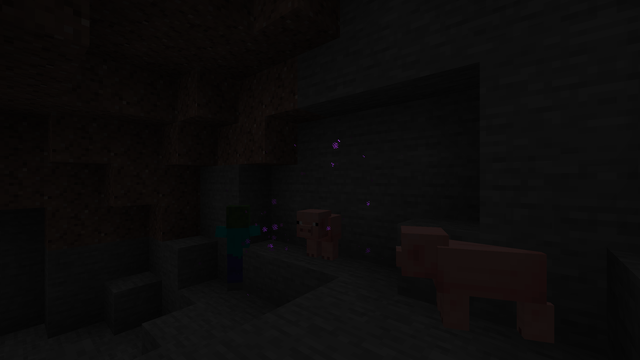cochons: (427, 233, 529, 355), (300, 210, 345, 262)
zombies: (220, 205, 255, 295)
